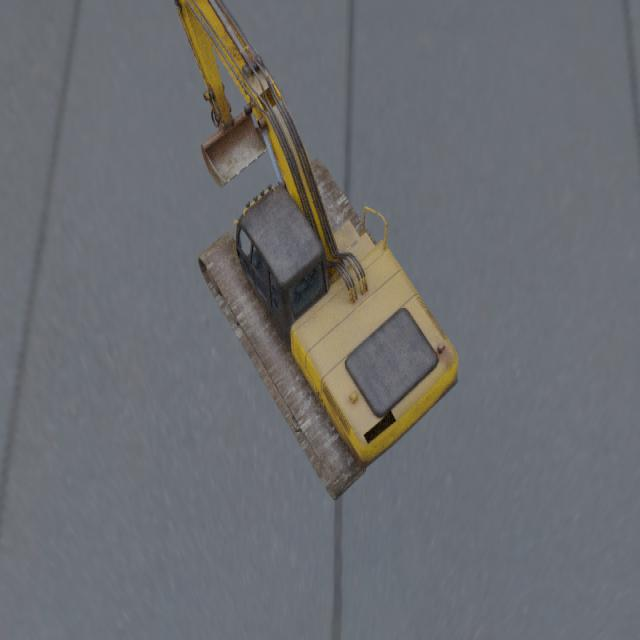excavator: (173, 0, 458, 501)
